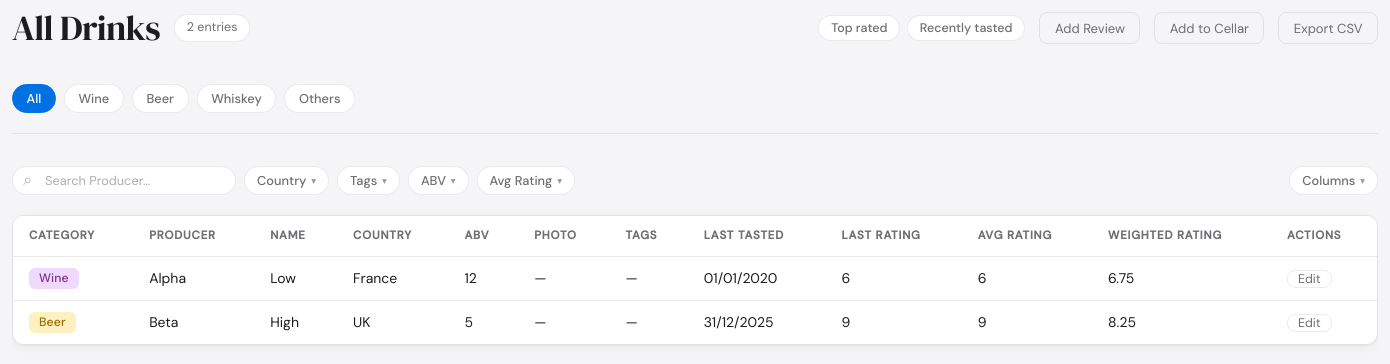
Test: clicking same column header twice toggles sort direction on All page
Expected: the text "Low" is shown, [254,256,337,300]
Click the column heading "Country" at (393, 236), box [337,216,448,256]
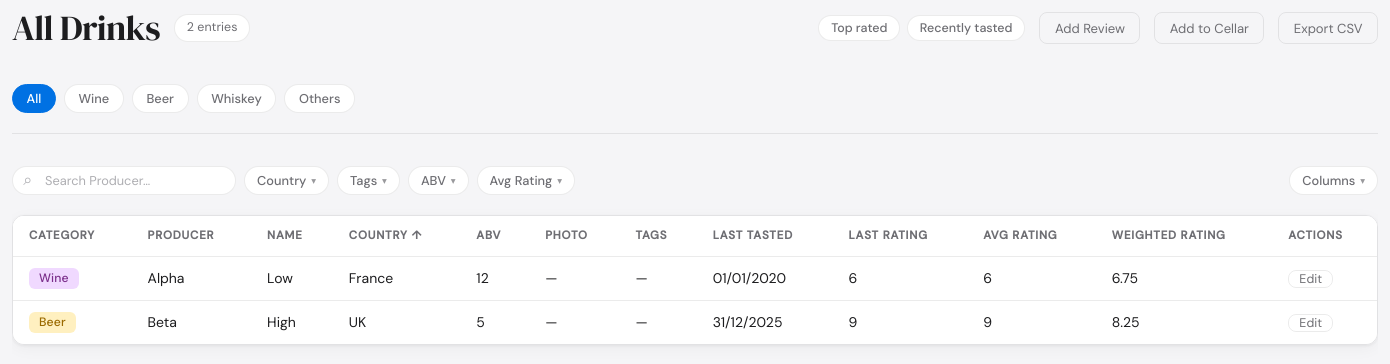
Expected: the column heading "Country ↑" is shown
Click the column heading "Country ↑" at (397, 236), box [333,216,460,256]
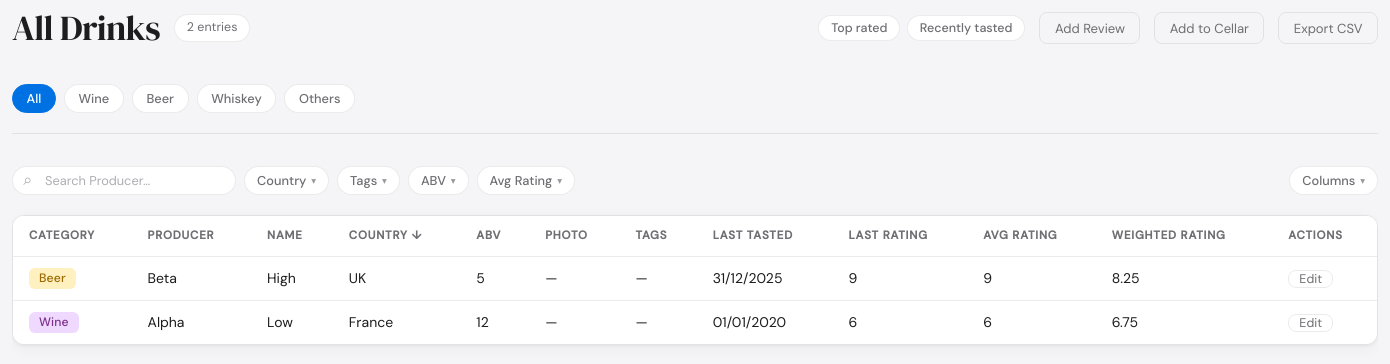
Expected: the column heading "Country ↓" is shown
Click the column heading "Country ↓" at (397, 236), box [333,216,460,256]
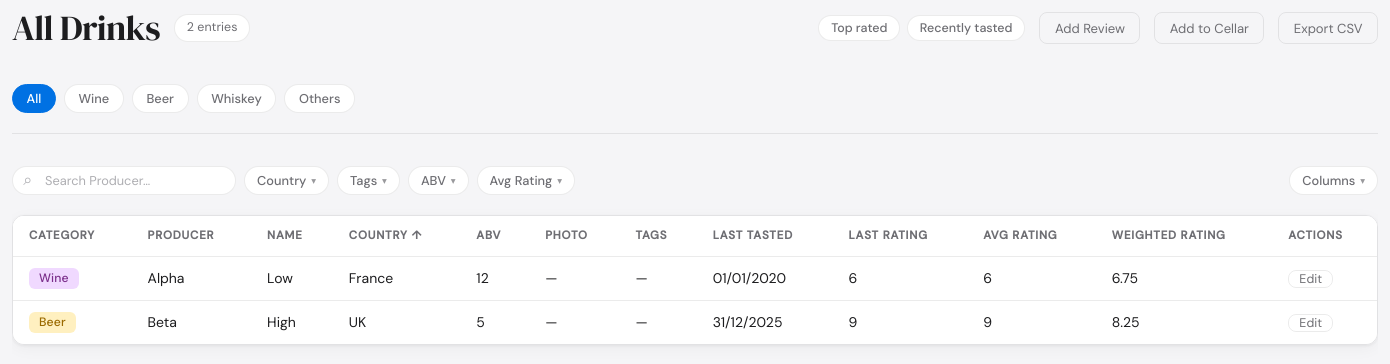
Expected: the column heading "Country ↑" is shown, [333,216,460,256]
